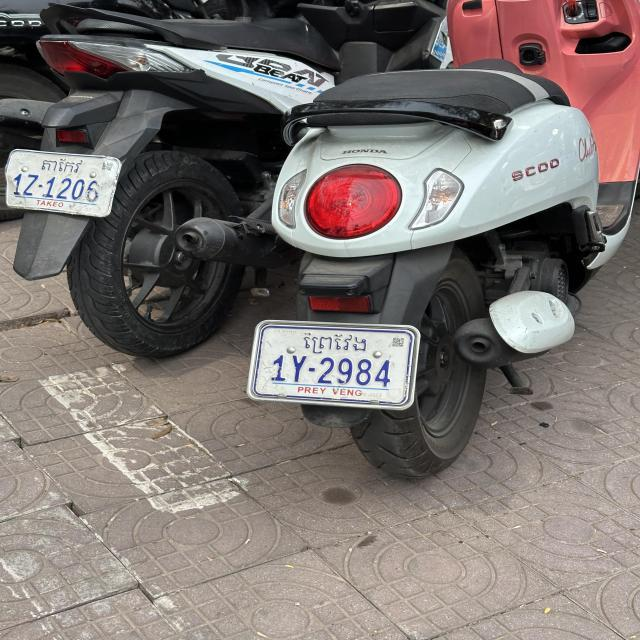Prey_Veng: (301, 331, 368, 354)
Takeo: (40, 157, 84, 173)
